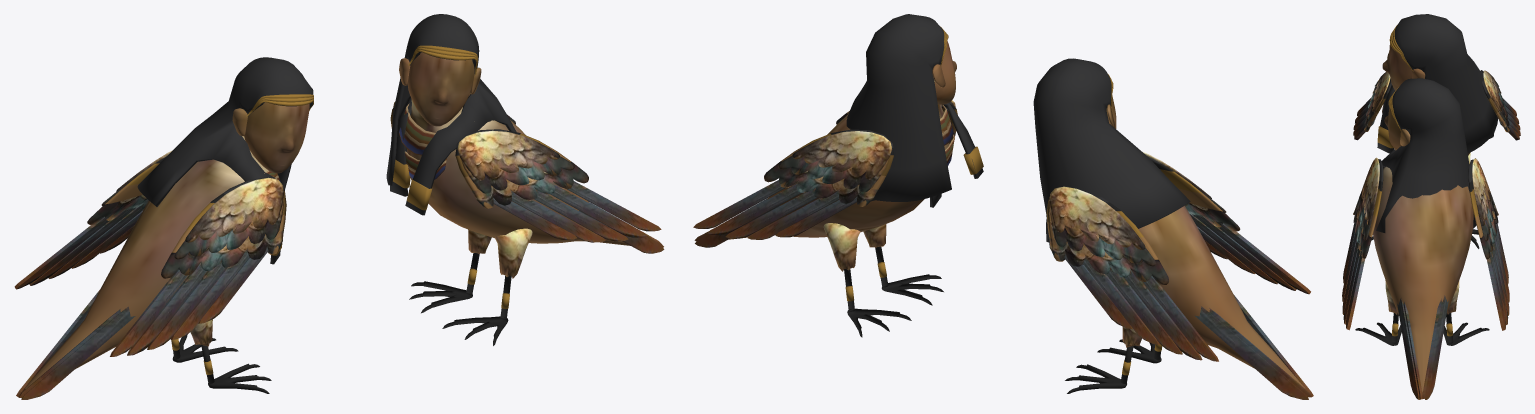
The model's file is egyptian style bird with human head statue 1 and 2 (user25123807).glb.
3 views of the same model, side by side, from view 1: azimuth 30°, elevation 25°; view 2: azimuth 150°, elevation 25°; view 3: azimuth 270°, elevation 25° (orthographic). The views are drawn at different scales.
Parts seen in each view (by area): view 1: Cube, Cube.001; view 2: Cube, Cube.001; view 3: Cube.001, Cube.
Boxes of the visible parts, x1,y1,x2,y2 form: Cube: [14, 57, 313, 399]; Cube.001: [386, 14, 664, 345]; Cube: [1033, 58, 1313, 399]; Cube.001: [693, 14, 983, 337]; Cube.001: [1342, 78, 1509, 399]; Cube: [1353, 14, 1520, 248].
Size of the model in its own units: 9.51 by 4.29 by 2.81.
Materials: 1 (1 with a texture image).
